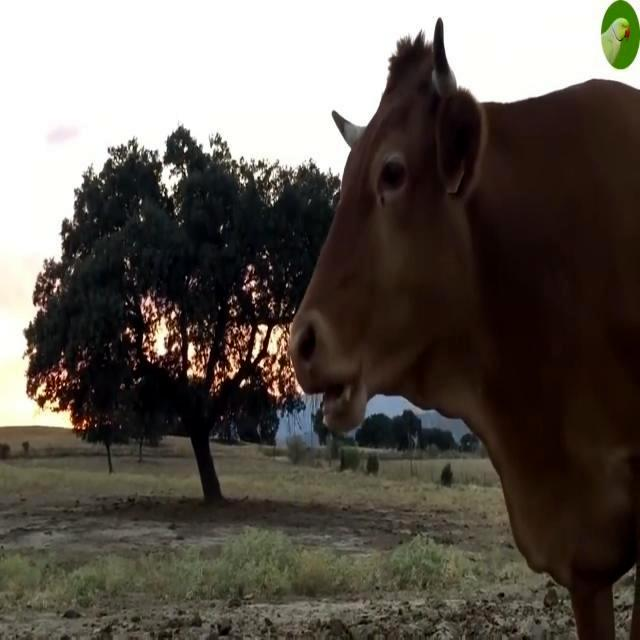COW: (290, 21, 640, 640)
